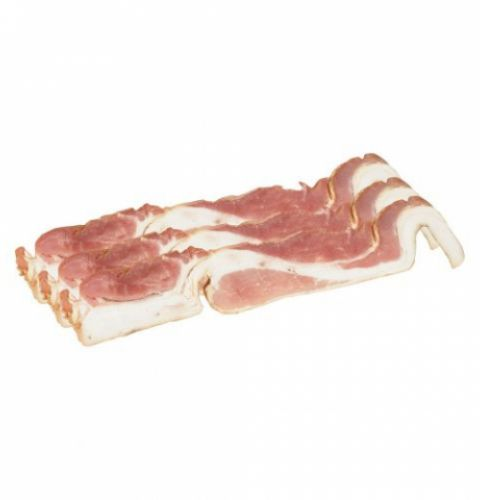bacon: (13, 181, 459, 336), (236, 129, 437, 231)
